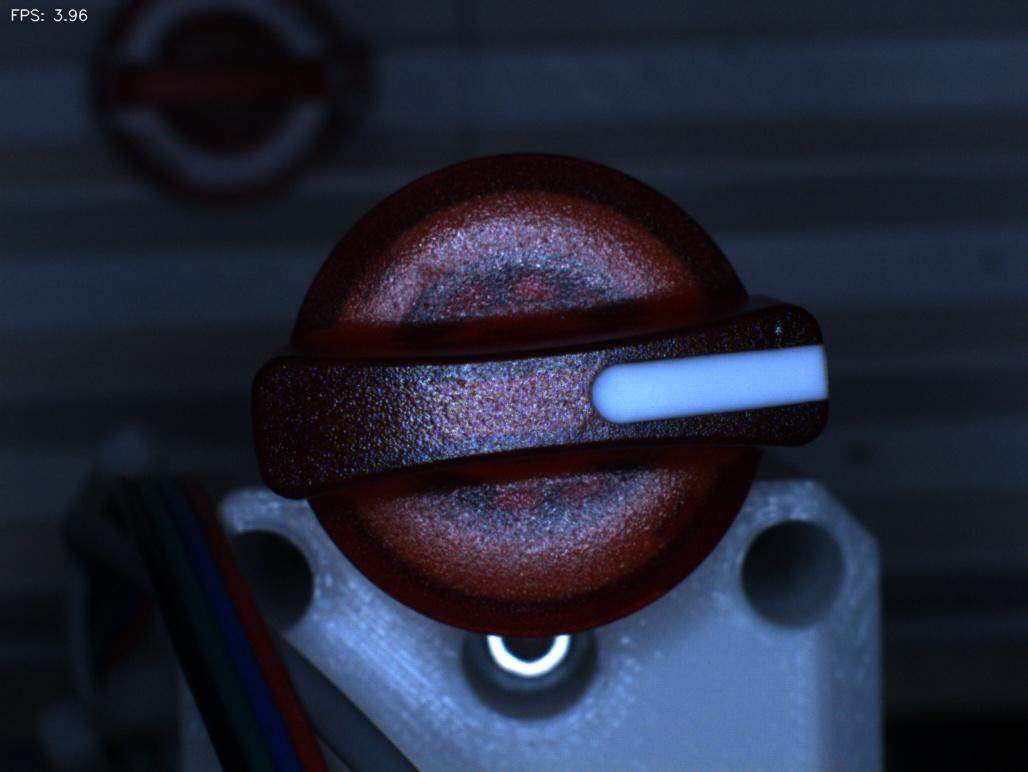Choc: (744, 283, 818, 362)
